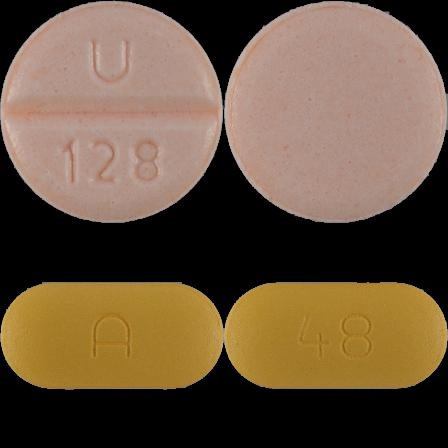68788-9965: (0, 0, 224, 224)
